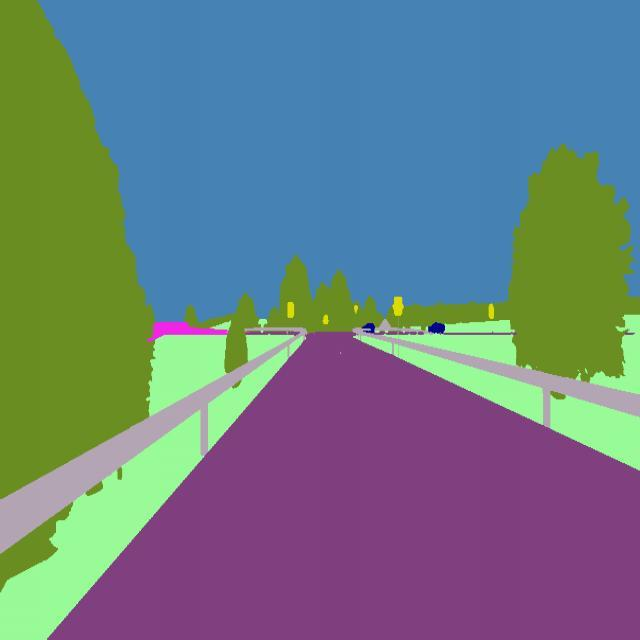safe: (426, 318, 448, 338), (360, 318, 376, 338)
